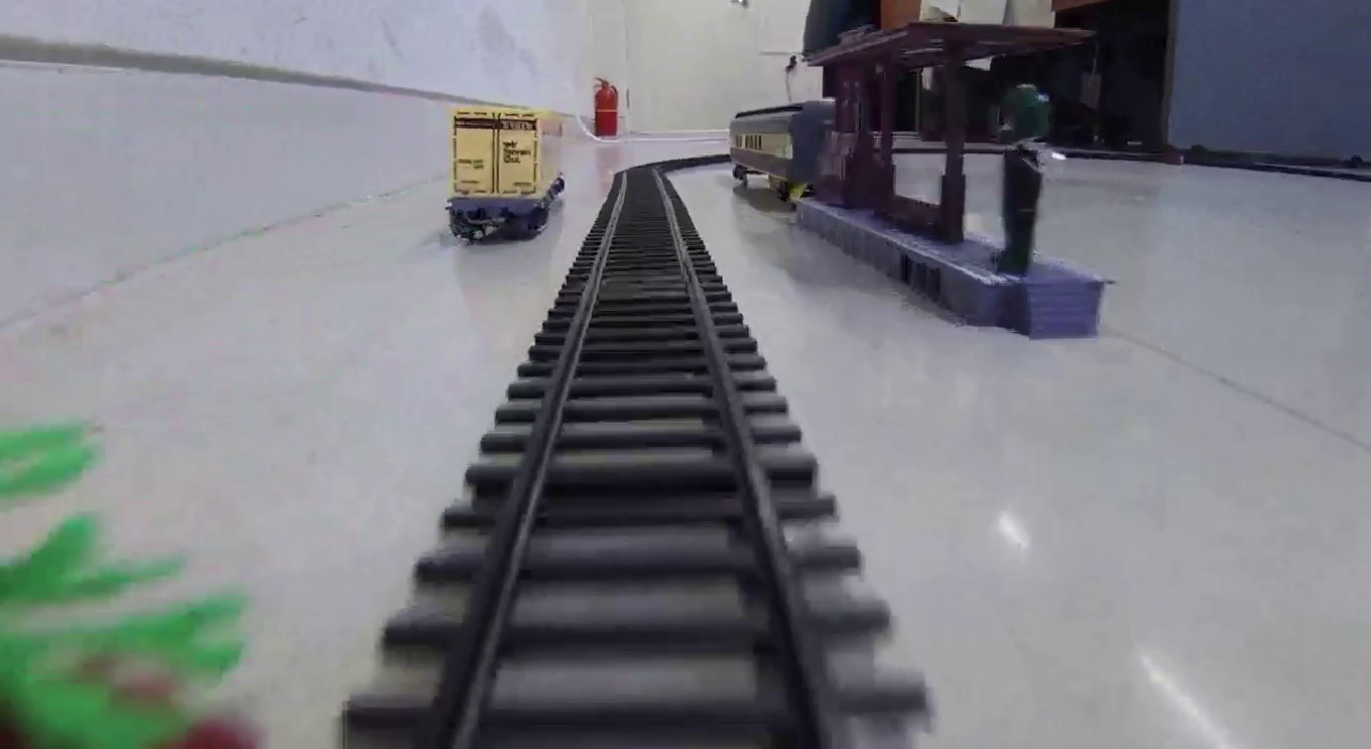people: (993, 83, 1053, 269)
